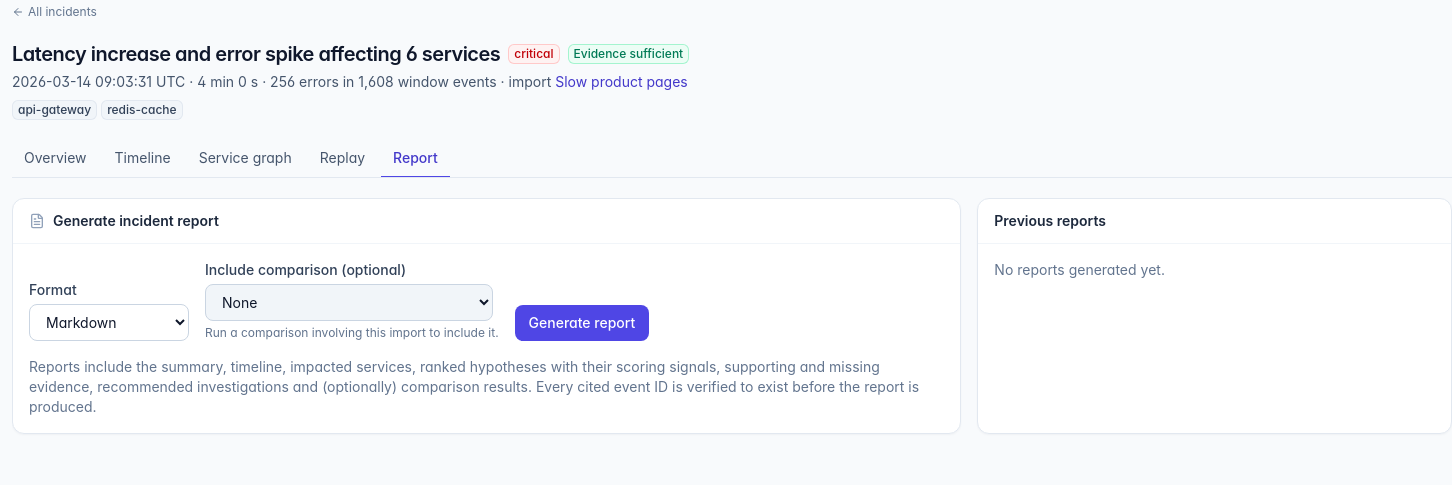
exports a report with a working download link
Click the button "Generate report". click: (582, 323)
box: [515,305,649,341]
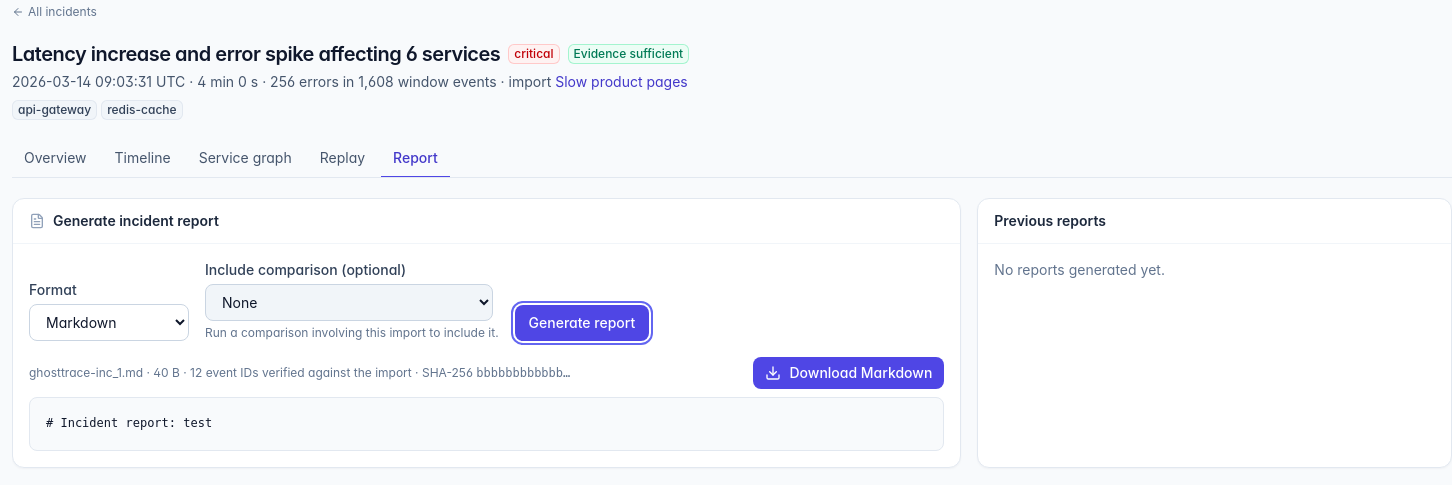
Result: the text with test id "report-preview" reads "# Incident report: test" at [46,416,212,430]
Result: the text "12 event IDs verified" is shown at [29,365,570,381]
